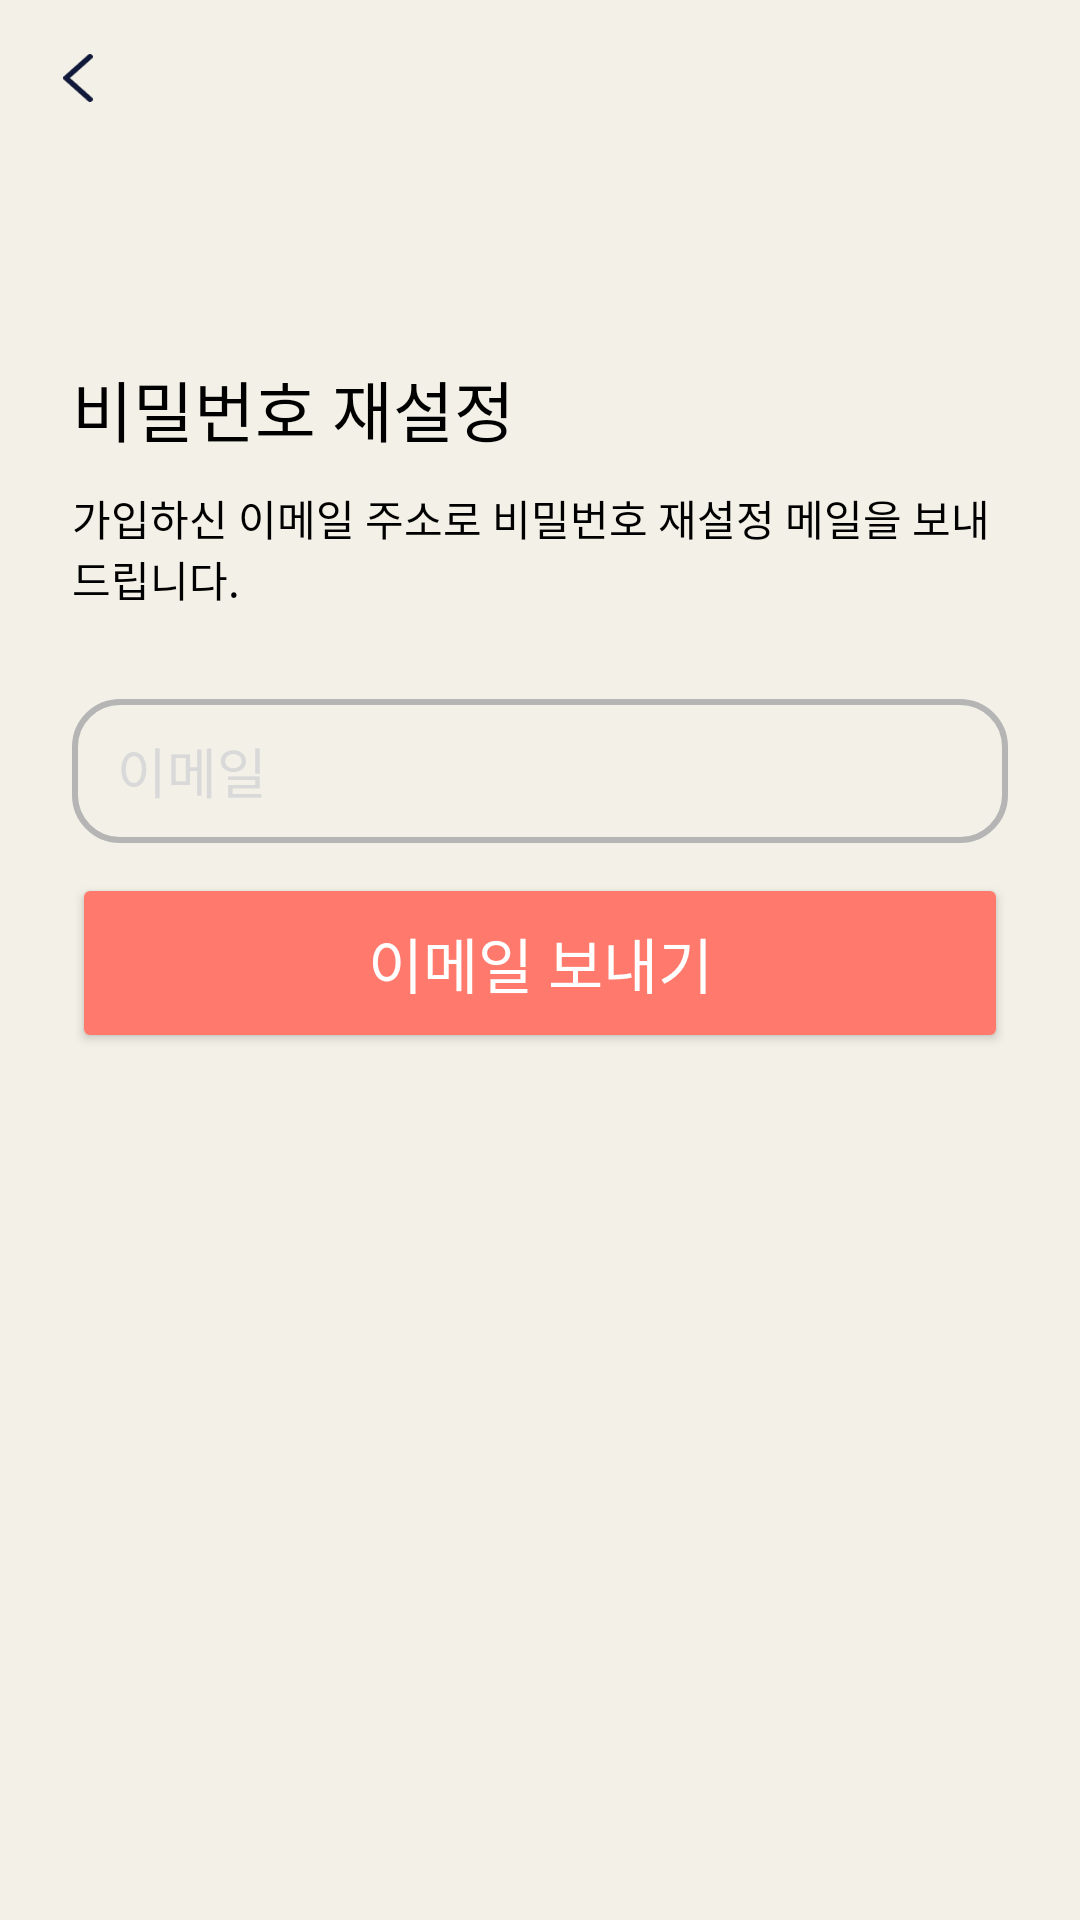

Screen size 1080*1920. Icon name, then its box in pixels as (x1, y1, x2, y2):
arrow: (63, 54, 93, 102)
